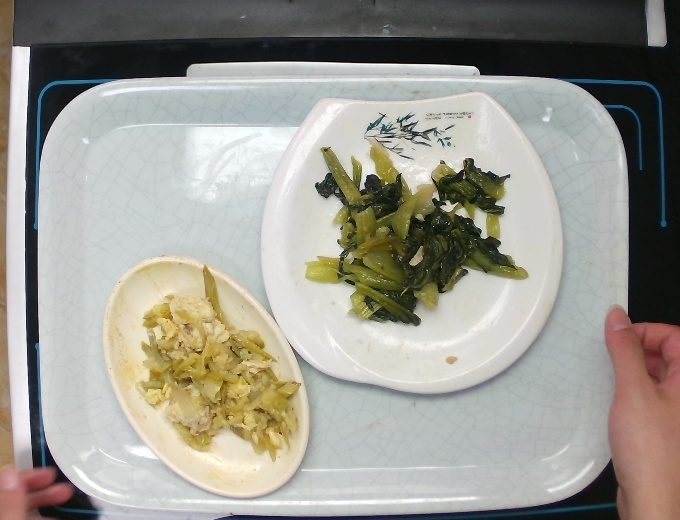JYsf-Mian_Pan: (252, 86, 568, 398)
JYsf-Tuo_Yuan_Wan: (101, 251, 320, 501)
